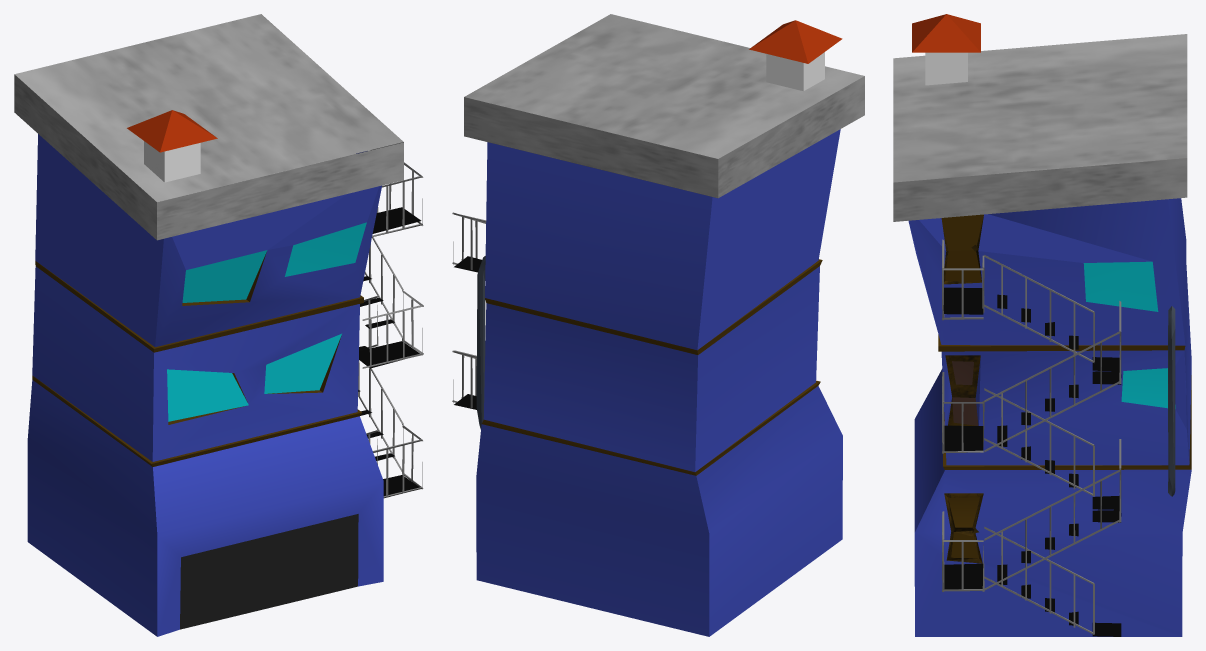
File: PredioTorto-AzulLOD1.fbx
3 renders of one model, left to right at view 1: azimuth 30°, elevation 25°; view 2: azimuth 150°, elevation 25°; view 3: azimuth 270°, elevation 25°, orthographic. The views are drawn at different scales.
Visible parts, largest first — view 1: Predio3AndaresLOD1; view 2: Predio3AndaresLOD1; view 3: Predio3AndaresLOD1.
Part boxes in pixels (x1=…): Predio3AndaresLOD1: x1=14, y1=14, x2=423, y2=636; Predio3AndaresLOD1: x1=452, y1=14, x2=864, y2=636; Predio3AndaresLOD1: x1=893, y1=14, x2=1191, y2=636.
Size of the model in its own units: 1035 by 1727 by 892.
